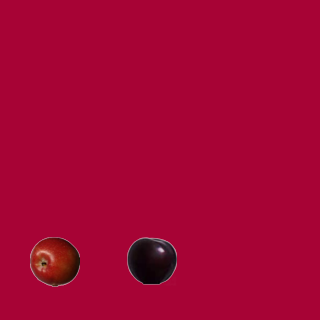Apple Braeburn: (29, 236, 79, 286)
Cherry Wax Black: (126, 235, 176, 285)
